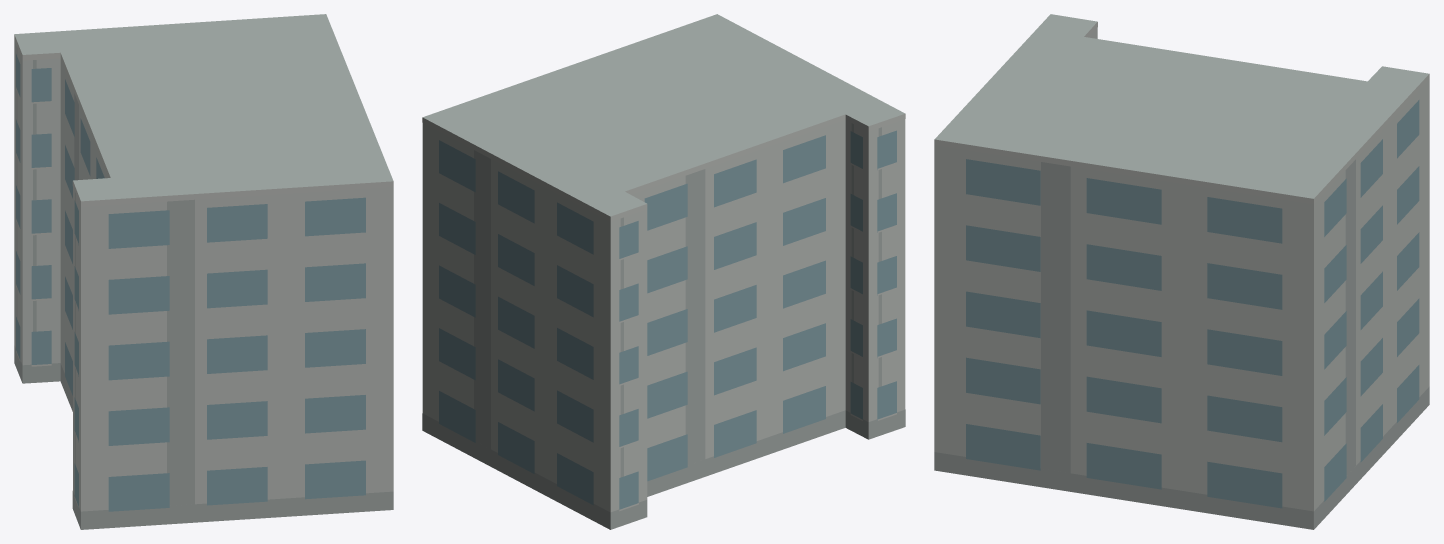
Rendered from survey-upis-32538056.glb.
3 views of the same model, side by side, from view 1: azimuth 30°, elevation 25°; view 2: azimuth 150°, elevation 25°; view 3: azimuth 270°, elevation 25° (orthographic). The views are drawn at different scales.
Visible parts, largest first — view 1: survey-upis-32538056.tmp; view 2: survey-upis-32538056.tmp; view 3: survey-upis-32538056.tmp.
Boxes of the visible parts, x1=… form: survey-upis-32538056.tmp: x1=14, y1=14, x2=393, y2=529; survey-upis-32538056.tmp: x1=422, y1=14, x2=905, y2=529; survey-upis-32538056.tmp: x1=934, y1=14, x2=1429, y2=529.
Size of the model in its own units: 16.77 by 14 by 18.98.
